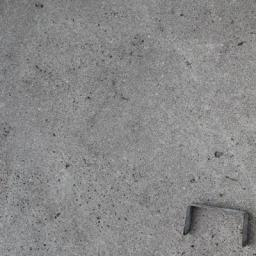FOD: (179, 200, 254, 248)
